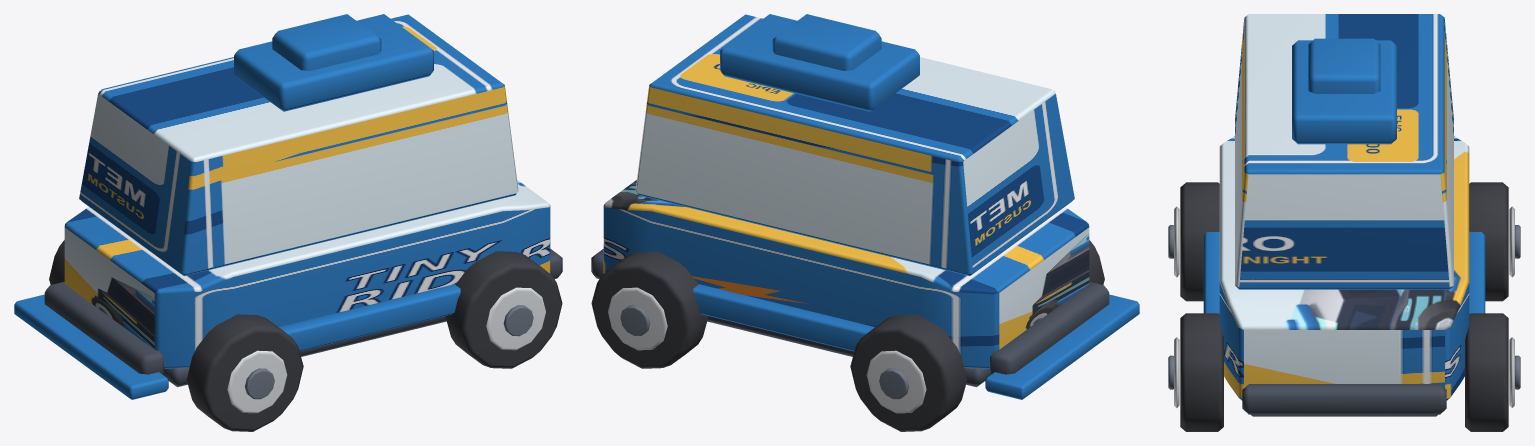
3 views of the same model, side by side, from view 1: azimuth 30°, elevation 25°; view 2: azimuth 150°, elevation 25°; view 3: azimuth 270°, elevation 25° (orthographic). The views are drawn at different scales.
Visible parts, largest first — view 1: CC-04_cabin, CC-04_connected_shell, custom equipment, Tire, Tire.002, custom side guard, custom chin, roof sign, front bumper, Rim, Rim.002, underbody (+2 smaller); view 2: CC-04_cabin, CC-04_connected_shell, custom equipment, Tire.001, Tire.003, custom side guard.001, custom chin, roof sign, front bumper, Rim.001, Rim.003, underbody (+2 smaller); view 3: CC-04_cabin, CC-04_connected_shell, custom equipment, rear bumper, Tire.002, Tire.003, roof sign, Tire, Tire.001, custom side guard, custom side guard.001, underbody (+4 smaller).
Part boxes in pixels (left/top/right/bottom): CC-04_cabin: left=79, top=14, right=518, bottom=275; CC-04_connected_shell: left=64, top=180, right=550, bottom=368; custom equipment: left=234, top=14, right=433, bottom=111; Tire: left=186, top=314, right=303, bottom=431; Tire.002: left=445, top=251, right=562, bottom=368; custom side guard: left=279, top=284, right=460, bottom=351; custom chin: left=14, top=294, right=168, bottom=399; roof sign: left=272, top=14, right=381, bottom=70; front bumper: left=44, top=281, right=164, bottom=374; Rim: left=227, top=350, right=287, bottom=413; Rim.002: left=486, top=287, right=545, bottom=350; underbody: left=162, top=316, right=446, bottom=386; CC-04_cabin: left=635, top=14, right=1074, bottom=275; CC-04_connected_shell: left=603, top=180, right=1089, bottom=368; custom equipment: left=720, top=14, right=919, bottom=111; Tire.001: left=850, top=314, right=967, bottom=431; Tire.003: left=591, top=251, right=708, bottom=368; custom side guard.001: left=693, top=284, right=874, bottom=351; custom chin: left=985, top=294, right=1139, bottom=399; roof sign: left=772, top=14, right=881, bottom=70; front bumper: left=989, top=281, right=1109, bottom=374; Rim.001: left=866, top=350, right=926, bottom=413; Rim.003: left=608, top=287, right=667, bottom=350; underbody: left=707, top=316, right=991, bottom=386; CC-04_cabin: left=1235, top=14, right=1453, bottom=289; CC-04_connected_shell: left=1219, top=136, right=1469, bottom=400; custom equipment: left=1292, top=40, right=1396, bottom=144; rear bumper: left=1242, top=384, right=1446, bottom=414; Tire.002: left=1180, top=313, right=1223, bottom=431; Tire.003: left=1465, top=313, right=1508, bottom=431; roof sign: left=1308, top=38, right=1380, bottom=93; Tire: left=1180, top=182, right=1219, bottom=301; Tire.001: left=1469, top=182, right=1508, bottom=301; custom side guard: left=1203, top=231, right=1219, bottom=313; custom side guard.001: left=1469, top=231, right=1485, bottom=313; underbody: left=1251, top=414, right=1437, bottom=416.
Bounding box in the file's own units: 315 × 208 × 209.
